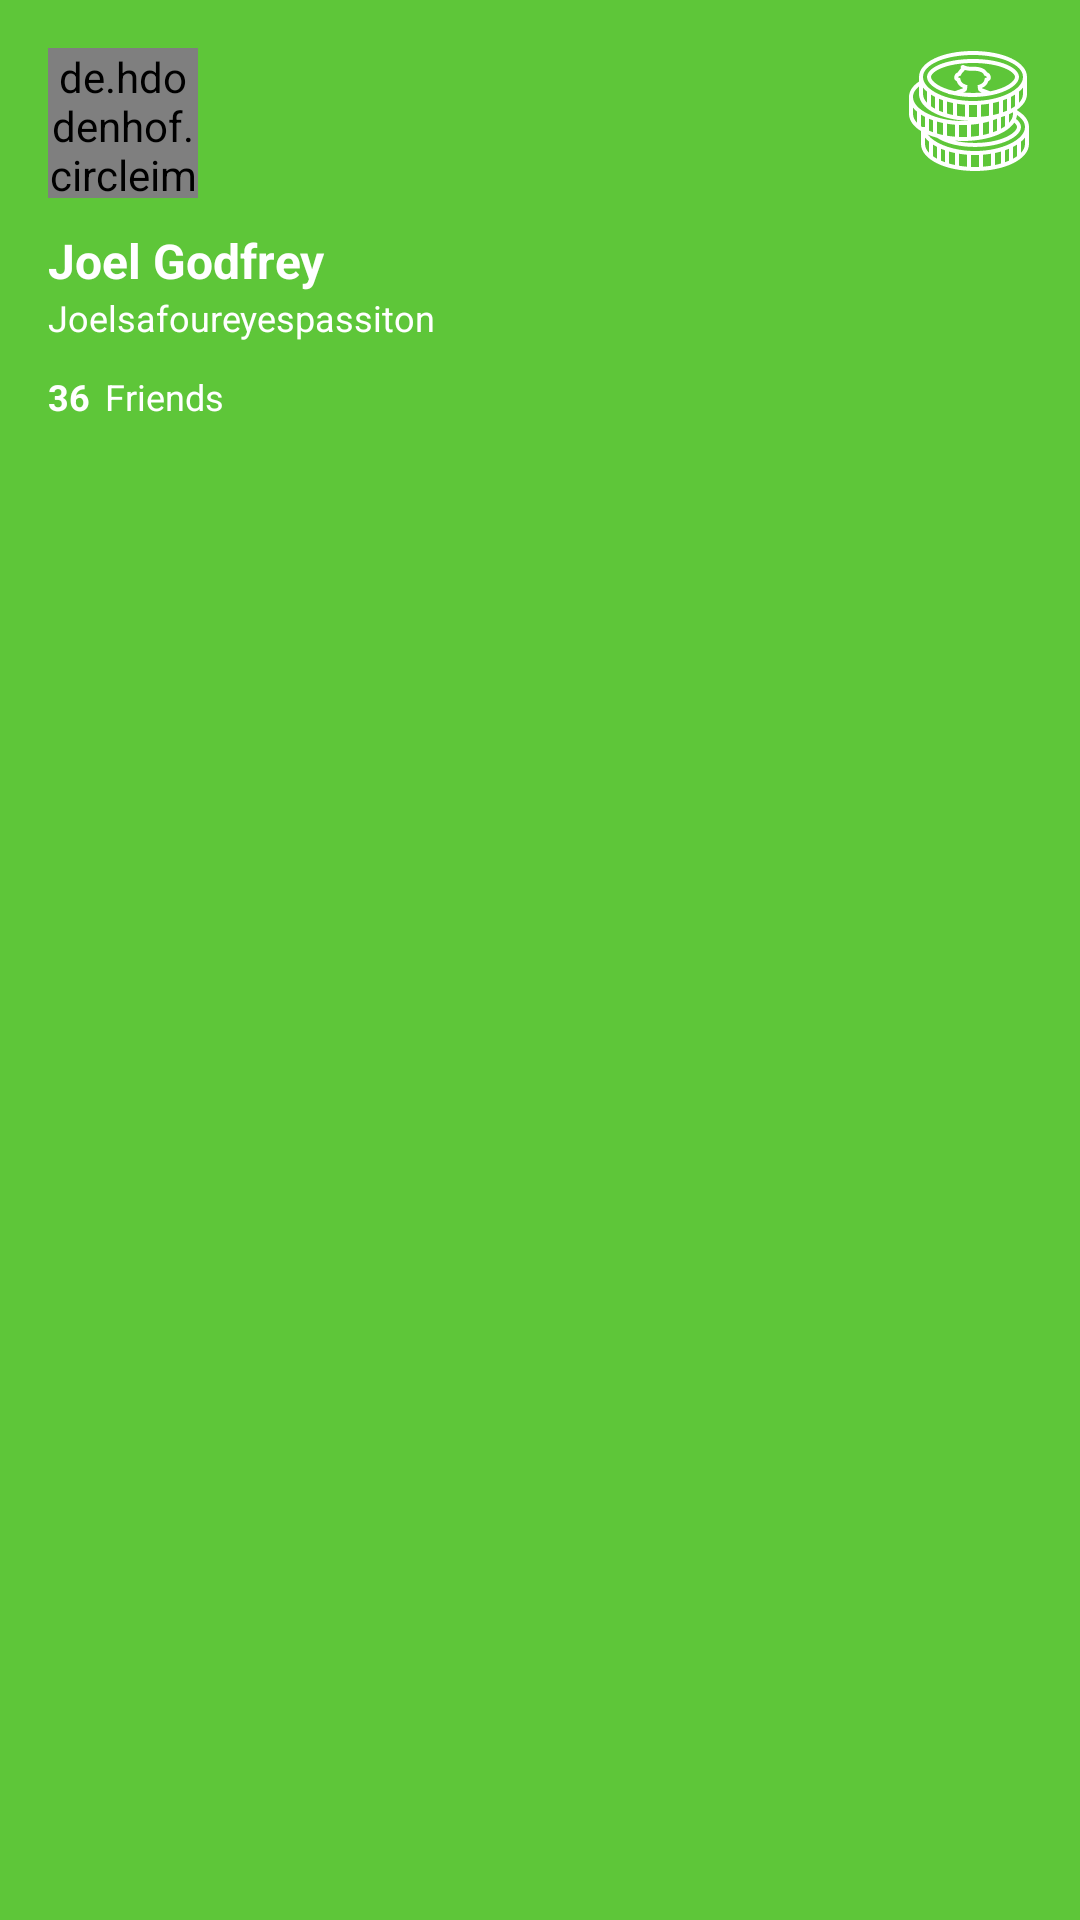

Where to tap for icons on this 1080×1920 app screen, as [x,y]:
coins: [969,111]
